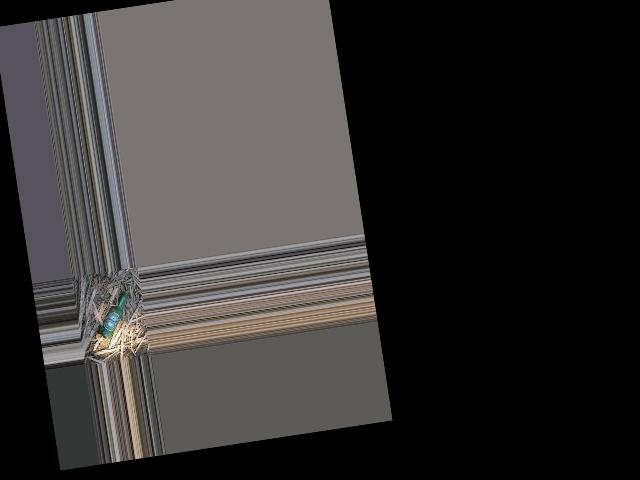beer: (92, 290, 133, 340)
